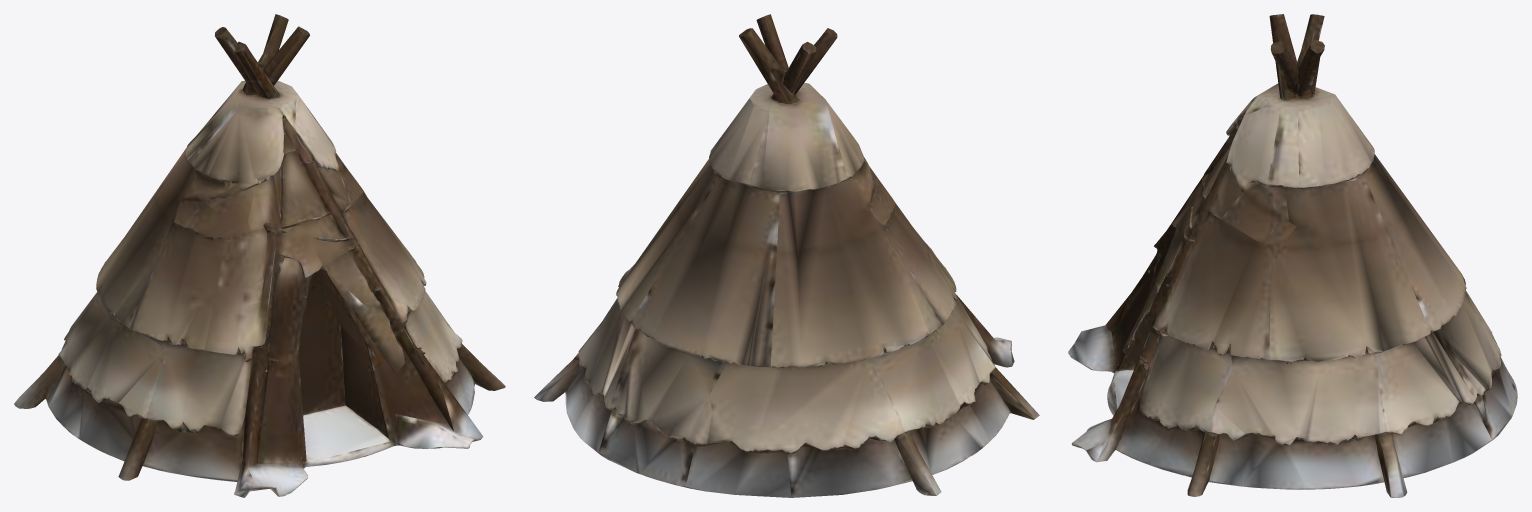
The model's file is tent.glb.
3 renders of one model, left to right at view 1: azimuth 30°, elevation 25°; view 2: azimuth 150°, elevation 25°; view 3: azimuth 270°, elevation 25°, orthographic. The views are drawn at different scales.
Visible parts, largest first — view 1: Mesh; view 2: Mesh; view 3: Mesh.
Part boxes in pixels (x1,y1,x2,y2): Mesh: (14,14,505,497); Mesh: (534,14,1039,497); Mesh: (1068,14,1517,497).
Bounding box in the file's own units: 1.88 × 1.69 × 1.84.
1 material, 1 textured.
